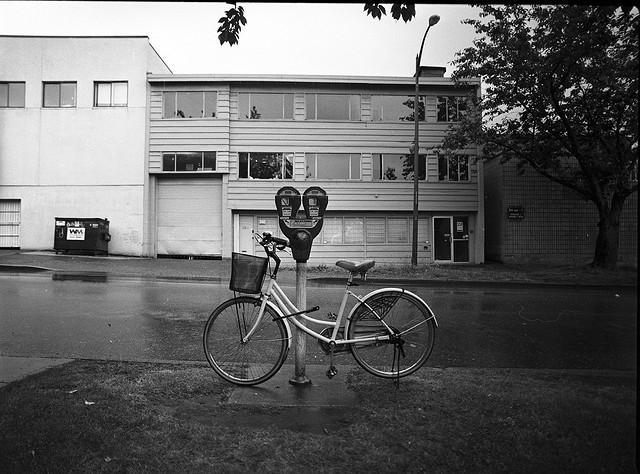bicycle: (203, 235, 436, 389)
